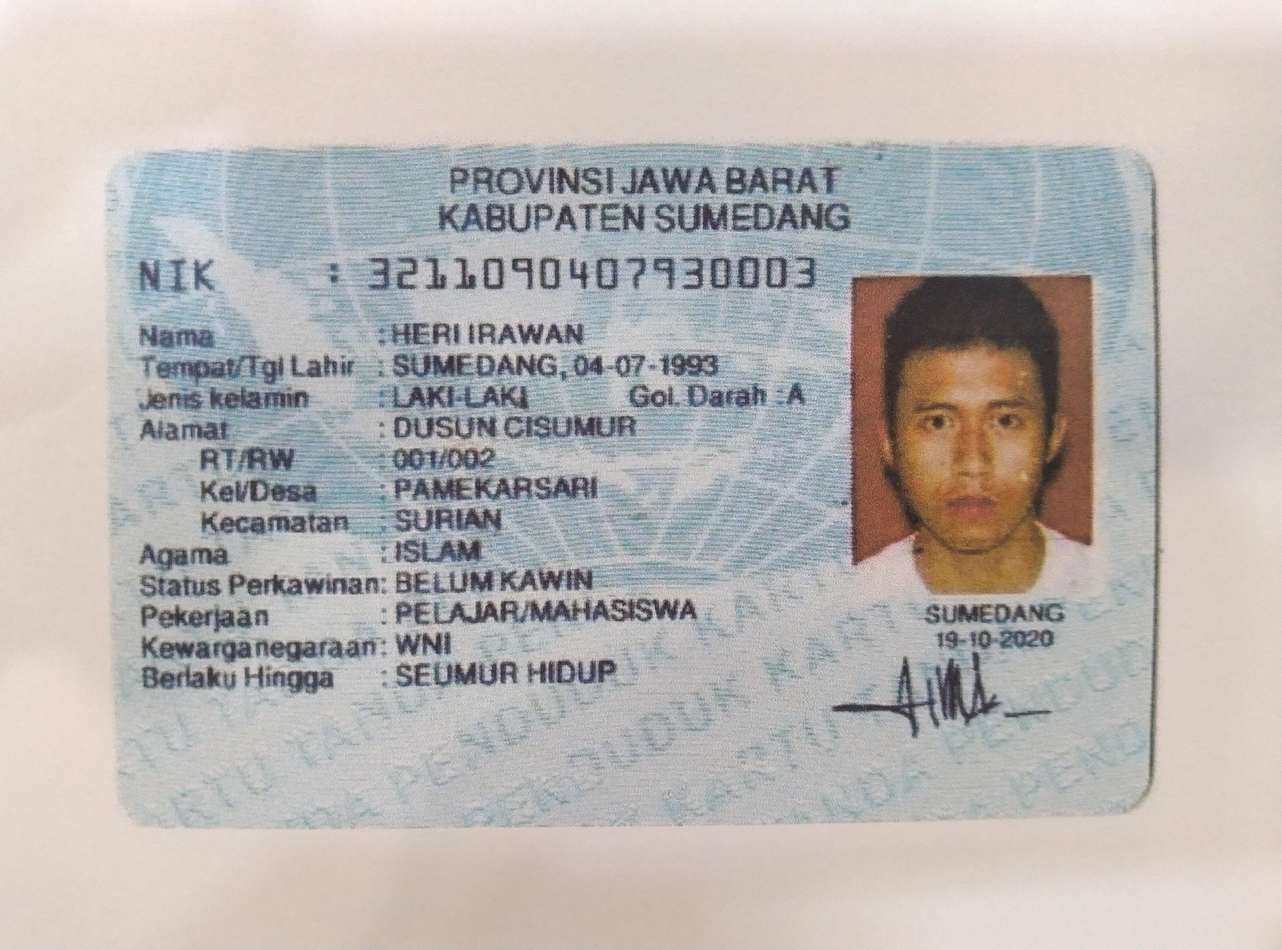ID-card: (107, 153, 1149, 822)
